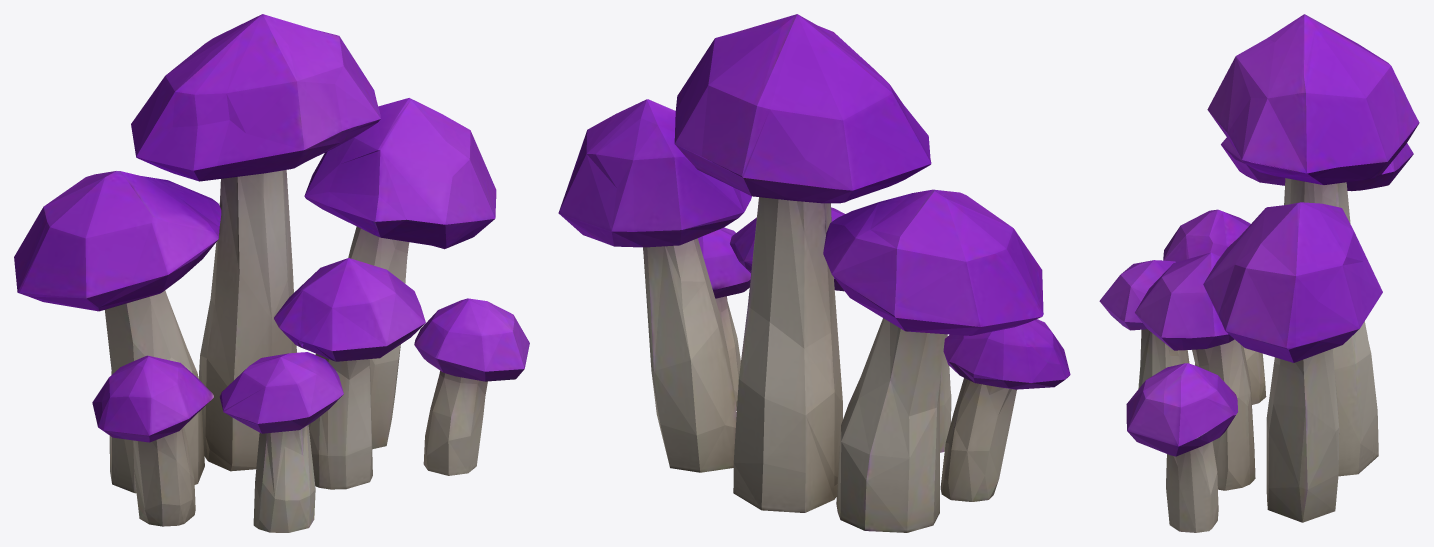
The model's file is mycelium_grappe.glb.
3 renders of one model, left to right at view 1: azimuth 30°, elevation 25°; view 2: azimuth 150°, elevation 25°; view 3: azimuth 270°, elevation 25°, orthographic. The views are drawn at different scales.
Visible parts, largest first — view 1: geometry_0; view 2: geometry_0; view 3: geometry_0.
Part boxes in pixels (bbox=[...]): geometry_0: bbox=[14, 14, 529, 532]; geometry_0: bbox=[558, 14, 1070, 532]; geometry_0: bbox=[1099, 14, 1419, 532].
Size of the model in its own units: 0.9975 by 0.9201 by 0.5965.
1 material, 1 textured.
